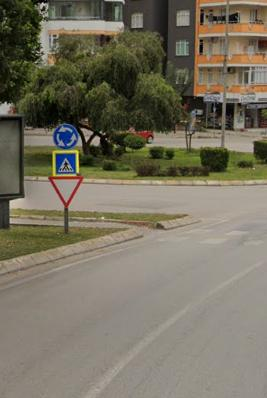crossroads: (55, 123, 78, 149)
